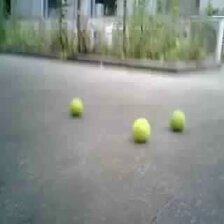tennis: (132, 117, 151, 141), (168, 110, 187, 131), (68, 98, 83, 116)
